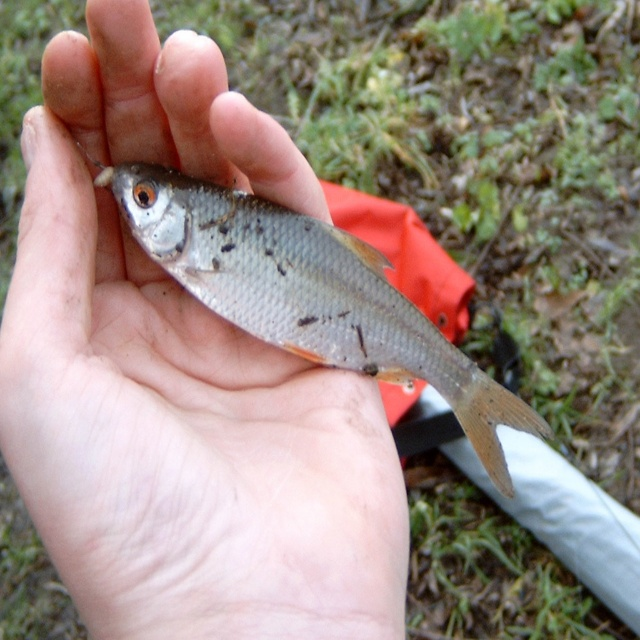Fish: (72, 138, 560, 499)
